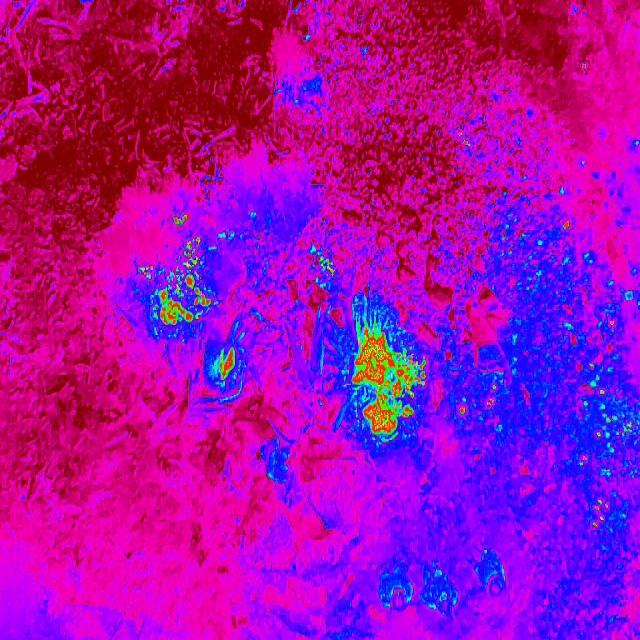fire: (564, 317, 638, 532), (348, 324, 428, 440), (140, 238, 213, 327), (448, 380, 502, 428), (215, 348, 239, 382), (312, 251, 337, 281), (168, 213, 188, 229), (562, 217, 576, 236)
